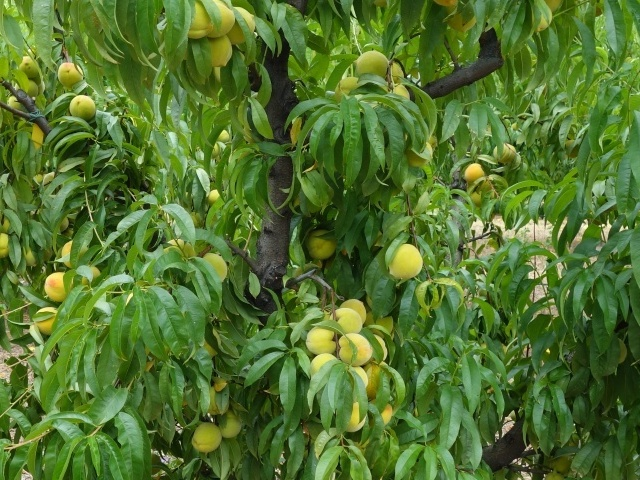peach: (382, 239, 426, 284), (334, 332, 379, 369), (350, 46, 392, 85), (224, 2, 259, 47), (186, 418, 224, 456), (301, 323, 342, 358), (182, 1, 217, 42), (203, 31, 236, 74), (302, 224, 338, 263), (39, 269, 77, 304), (380, 80, 419, 114), (326, 306, 369, 336), (198, 248, 232, 285), (304, 349, 341, 382), (28, 303, 63, 337), (336, 292, 373, 324), (339, 359, 378, 389), (205, 1, 238, 36), (402, 138, 435, 172), (340, 398, 369, 436), (376, 56, 411, 87), (67, 92, 100, 124), (59, 239, 93, 270), (215, 407, 246, 440), (444, 7, 479, 36), (329, 73, 365, 101), (53, 59, 86, 89), (489, 137, 520, 168), (459, 160, 488, 186), (15, 51, 40, 80), (19, 72, 44, 99), (562, 137, 586, 161), (53, 212, 76, 237), (468, 188, 492, 211), (208, 137, 230, 162), (211, 127, 238, 144), (205, 187, 223, 209)
